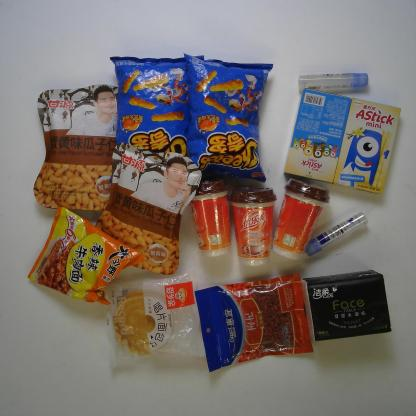Dessert: (103, 269, 206, 368), (333, 96, 402, 195), (283, 86, 352, 184)
Dried Fruit: (94, 142, 203, 276), (194, 272, 314, 374), (31, 83, 119, 213)
Instant Drink: (271, 177, 330, 261), (229, 184, 277, 268), (186, 178, 233, 258)
Instant Noodles: (26, 206, 146, 306)
Puffed Food: (183, 52, 275, 184), (108, 54, 206, 156)
Stationery: (306, 211, 369, 258), (297, 70, 370, 96)
Tissue: (301, 269, 392, 342)
